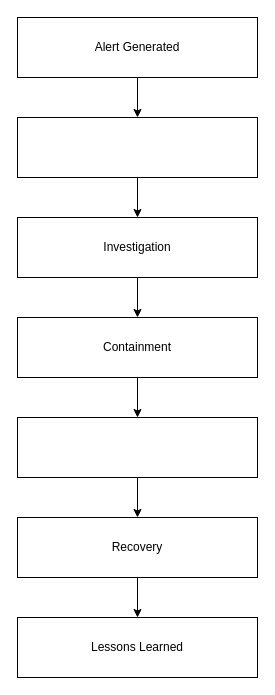
Some shapes in this 275 by 695 pixel diagram are drawn without their labels. The shapes that lost their labels are listed below. From the top down, each one's centre as x and y in pixels, then its label:
At point (137, 147): "Alert Triage".
At point (137, 447): "Eradication".
